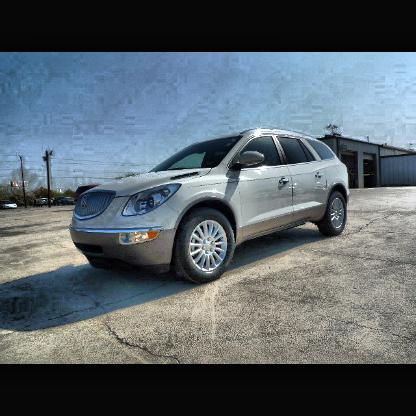Buick Enclave SUV 2012: (71, 132, 351, 285)
